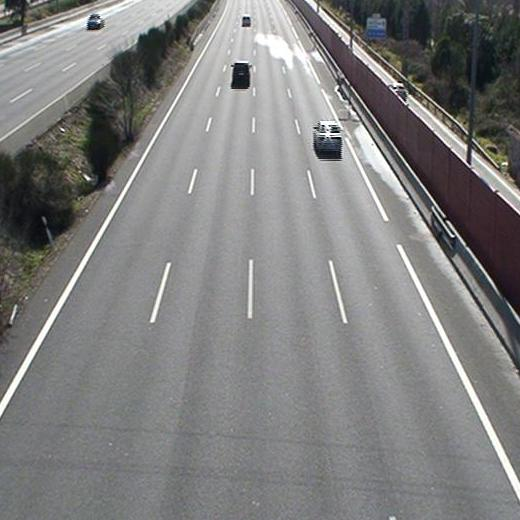car: (313, 119, 343, 154), (232, 61, 251, 85), (242, 15, 252, 26)
